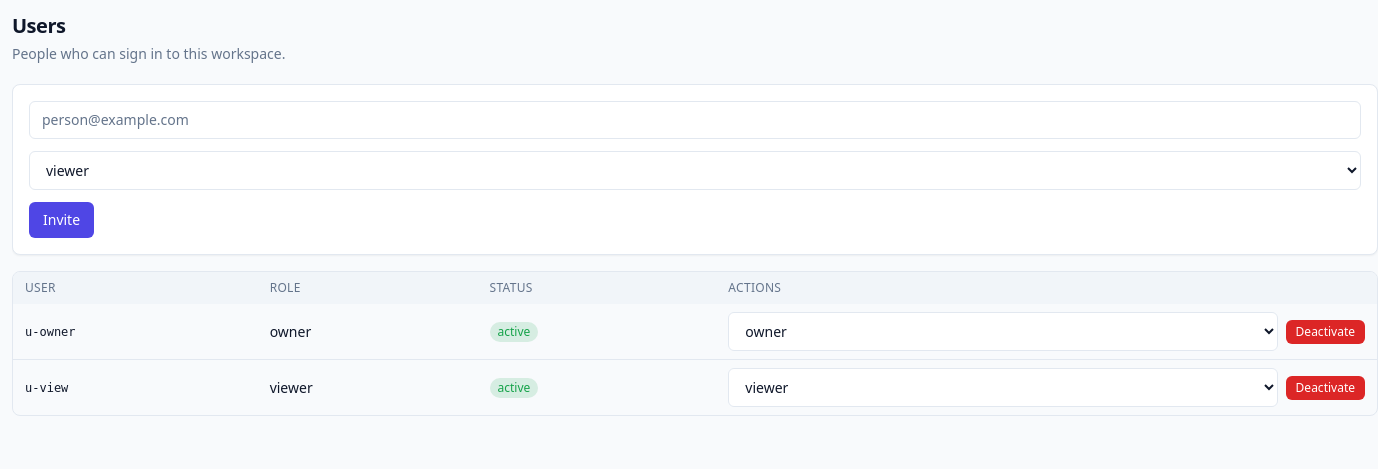
Users view (US3) › surfaces the last-owner safeguard (409) when demoting
Expected: the text "u-owner" is shown, [13,304,258,360]
Select "admin" in the dropdown named "Role for u-owner": (1003, 332) [728,312,1278,351]
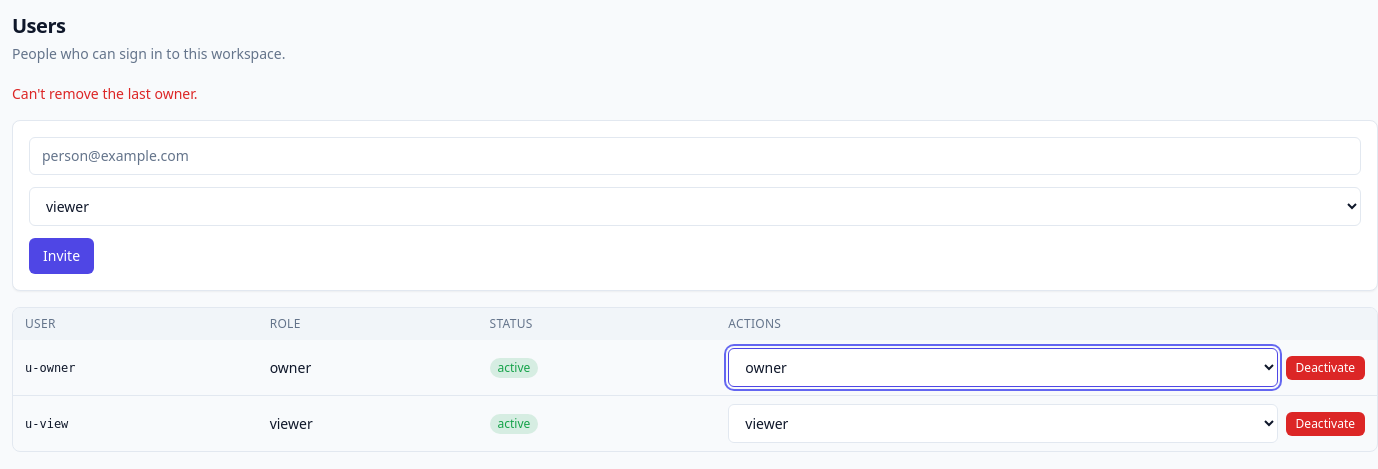
Expected: the message shows "last owner", [12,84,198,103]
